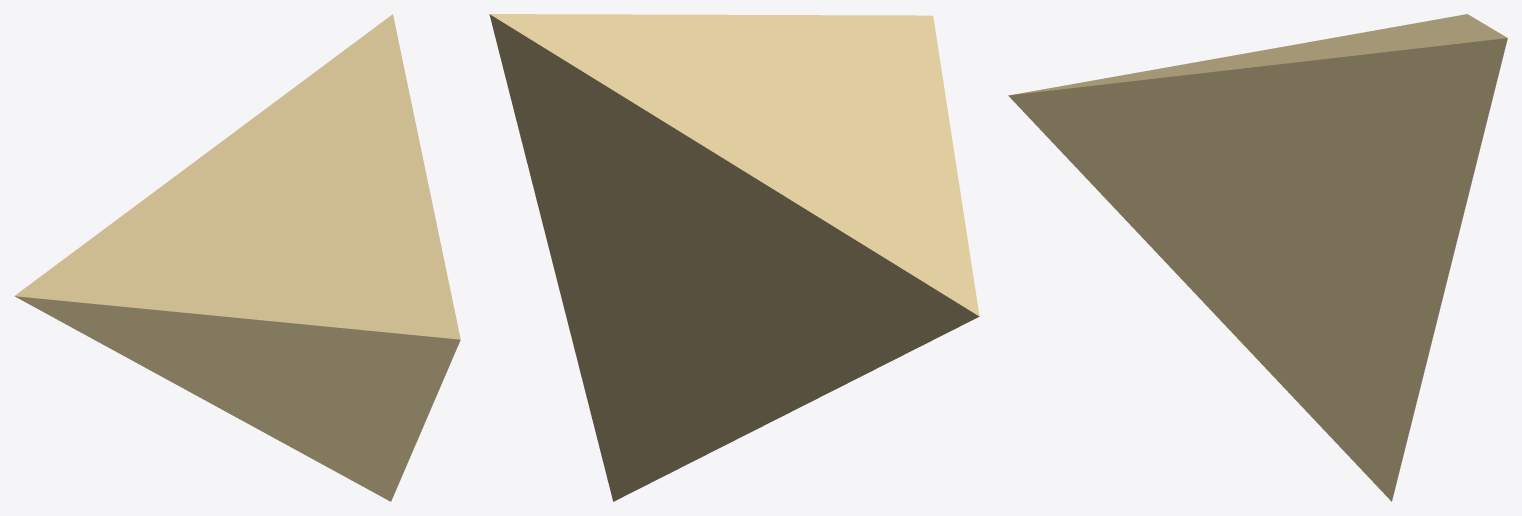
File: platonic-tetrahedron.glb
The picture shows the model from 3 angles, left to right: view 1: azimuth 30°, elevation 25°; view 2: azimuth 150°, elevation 25°; view 3: azimuth 270°, elevation 25°; orthographic projection. The views are drawn at different scales.
Visible parts, largest first — view 1: Tetrahedron; view 2: Tetrahedron; view 3: Tetrahedron.
Part boxes in pixels (x1,y1,x2,y2): Tetrahedron: [14, 14, 460, 501]; Tetrahedron: [489, 14, 979, 501]; Tetrahedron: [1008, 14, 1507, 501].
Size of the model in its own units: 1.32 by 1.39 by 1.28.
